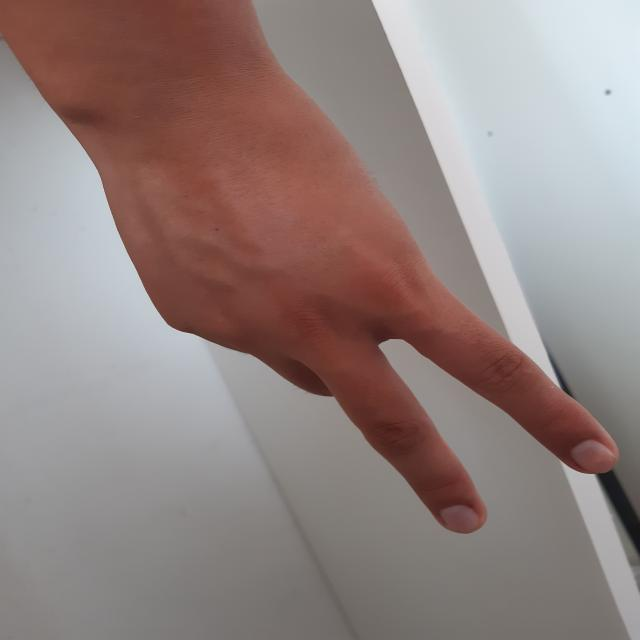EYE: (81, 127, 628, 540)
